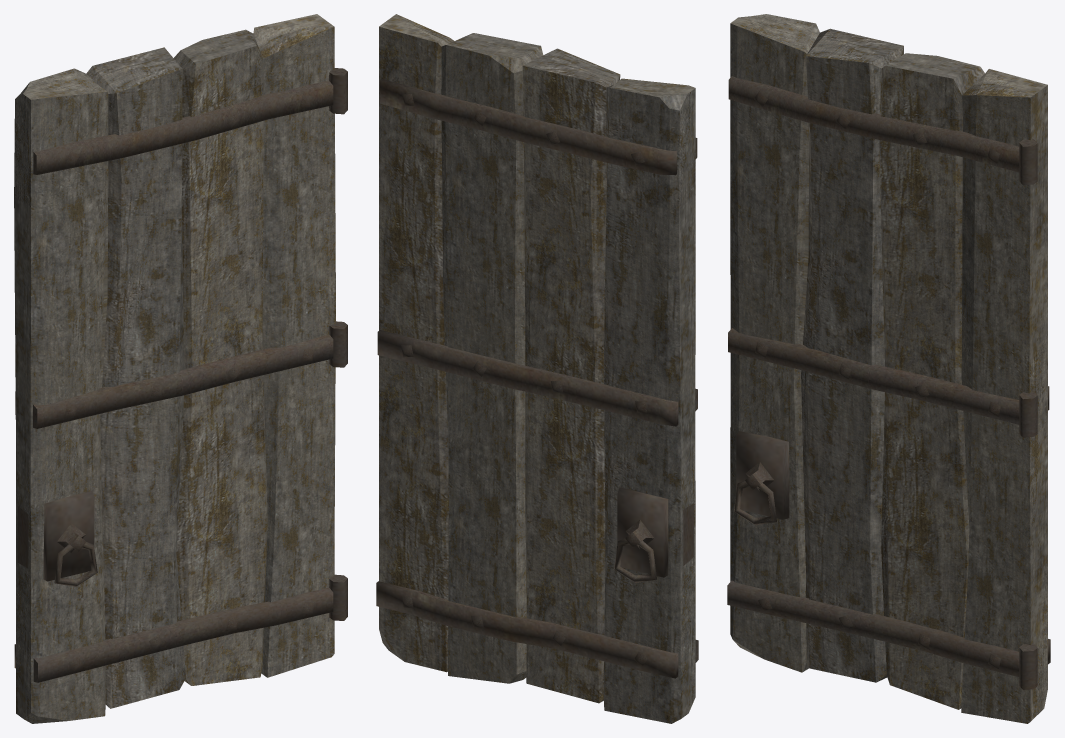
The model's file is door_R.fbx.
3 renders of one model, left to right at view 1: azimuth 30°, elevation 25°; view 2: azimuth 150°, elevation 25°; view 3: azimuth 330°, elevation 25°, orthographic.
Visible parts, largest first — view 1: door_R; view 2: door_R; view 3: door_R.
Part boxes in pixels (x1,y1,x2,y2): door_R: (14, 14, 347, 723); door_R: (376, 14, 698, 723); door_R: (727, 14, 1050, 723).
Size of the model in its own units: 51.42 by 100 by 13.26.
